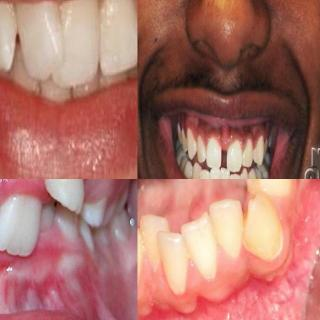Gum Swelling: (11, 179, 95, 208)
maligned: (15, 0, 69, 76), (240, 188, 294, 262), (0, 186, 44, 258), (154, 225, 192, 302), (182, 212, 226, 274), (210, 197, 247, 263), (138, 210, 174, 276), (34, 179, 86, 219), (124, 0, 137, 46), (138, 217, 146, 289), (193, 162, 203, 179), (200, 169, 212, 179), (208, 167, 218, 179), (220, 167, 230, 179), (230, 172, 242, 179)
